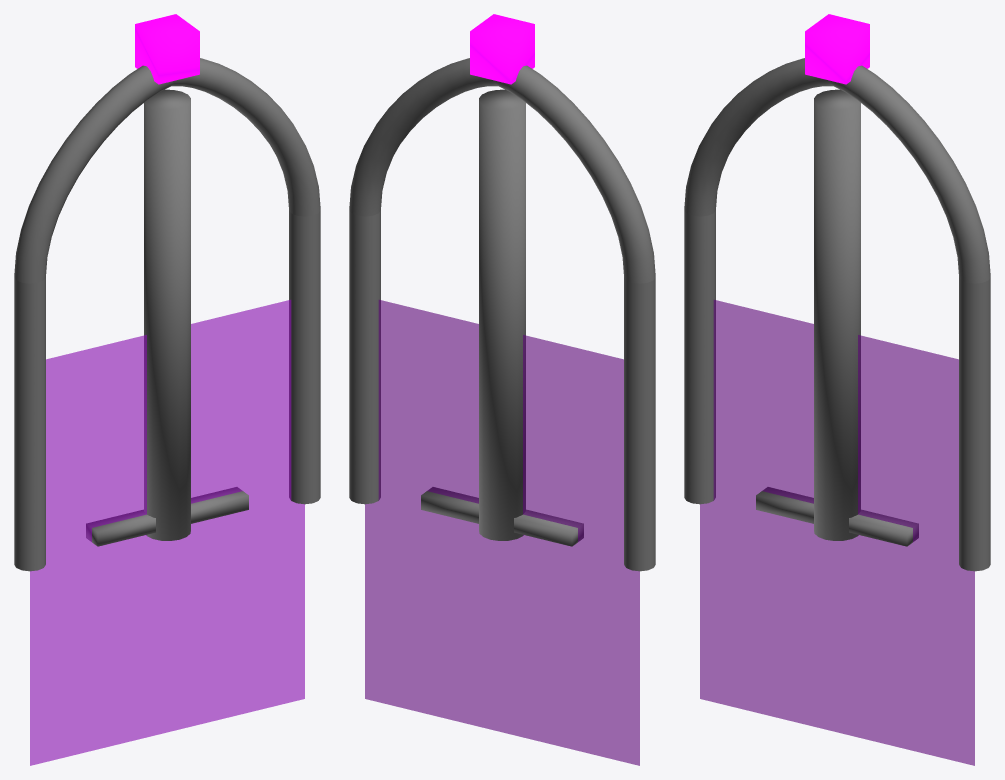
The model's file is sci_fi_portal.glb.
3 views of the same model, side by side, from view 1: azimuth 30°, elevation 25°; view 2: azimuth 150°, elevation 25°; view 3: azimuth 330°, elevation 25° (orthographic).
Visible parts, largest first — view 1: PortalInterior, PillarLeft, ArchFrame, RailLeft, RailRight, Keystone, Threshold; view 2: PortalInterior, PillarLeft, ArchFrame, RailLeft, RailRight, Keystone, Threshold; view 3: PortalInterior, PillarLeft, ArchFrame, RailLeft, RailRight, Keystone, Threshold.
Part boxes in pixels (bbox=[...]): PortalInterior: bbox=[30, 300, 304, 765]; PillarLeft: bbox=[144, 89, 190, 540]; ArchFrame: bbox=[14, 58, 320, 283]; RailLeft: bbox=[14, 277, 45, 571]; RailRight: bbox=[289, 210, 320, 504]; Keystone: bbox=[135, 14, 199, 84]; Threshold: bbox=[86, 487, 248, 546]; PortalInterior: bbox=[365, 300, 639, 765]; PillarLeft: bbox=[479, 89, 525, 540]; ArchFrame: bbox=[349, 58, 655, 283]; RailLeft: bbox=[624, 277, 655, 571]; RailRight: bbox=[349, 210, 380, 504]; Keystone: bbox=[470, 14, 534, 84]; Threshold: bbox=[421, 487, 583, 546]; PortalInterior: bbox=[700, 300, 974, 765]; PillarLeft: bbox=[814, 89, 860, 540]; ArchFrame: bbox=[684, 58, 990, 283]; RailLeft: bbox=[684, 210, 715, 504]; RailRight: bbox=[959, 277, 990, 571]; Keystone: bbox=[805, 14, 869, 84]; Threshold: bbox=[756, 487, 918, 546].
Bounding box in the file's own units: 2.2 × 4.9 × 0.3.
